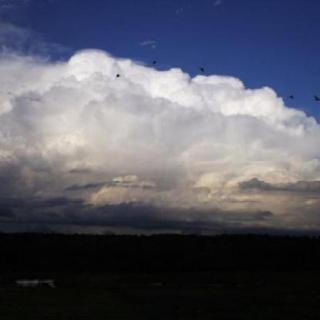Cumulonimbus: (0, 4, 320, 230)
